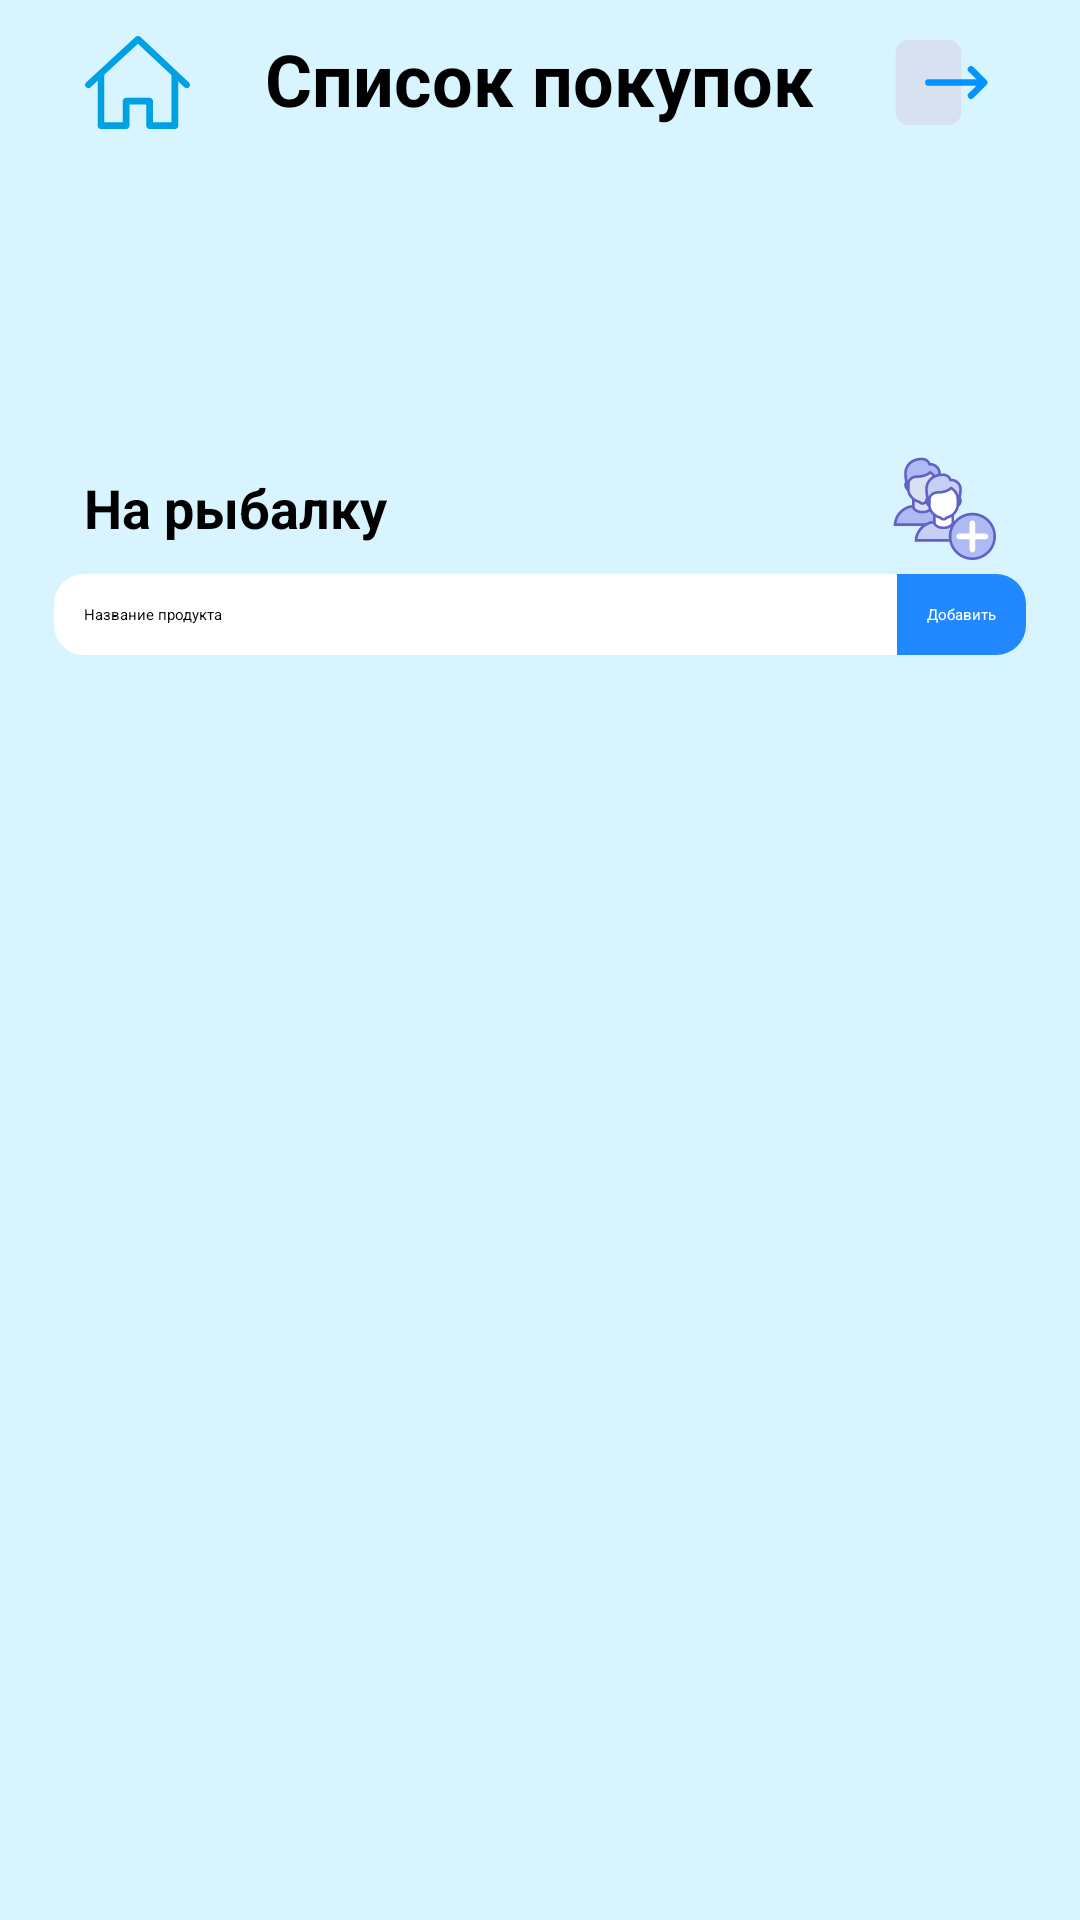

Screen size 1080 x 1920. Icon name, then its center in pixels as point (x, y):
exit: point (942, 82)
home: point (137, 82)
users: point (944, 508)
